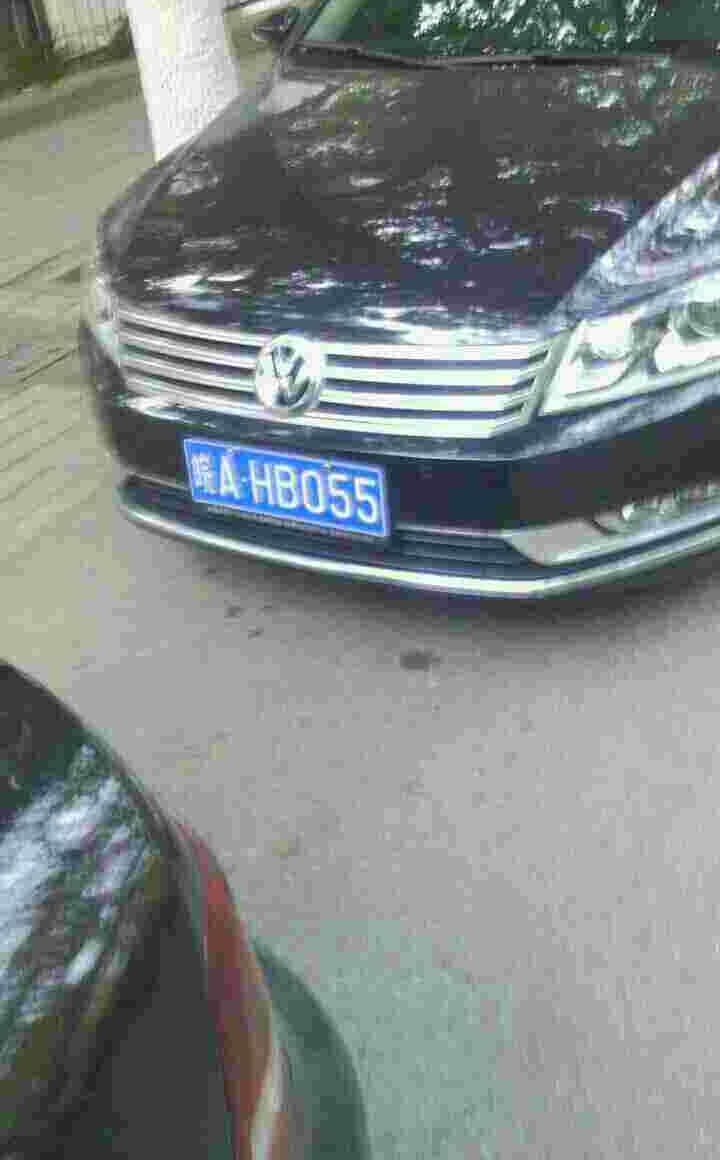plate: (181, 431, 392, 542)
